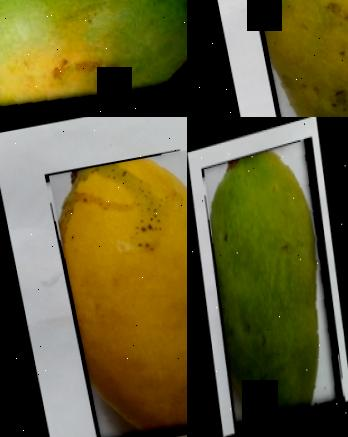PartiallyRipe: (0, 0, 187, 117), (221, 0, 348, 117)
Ripe: (47, 146, 187, 437)
Unripe: (204, 138, 344, 434)
